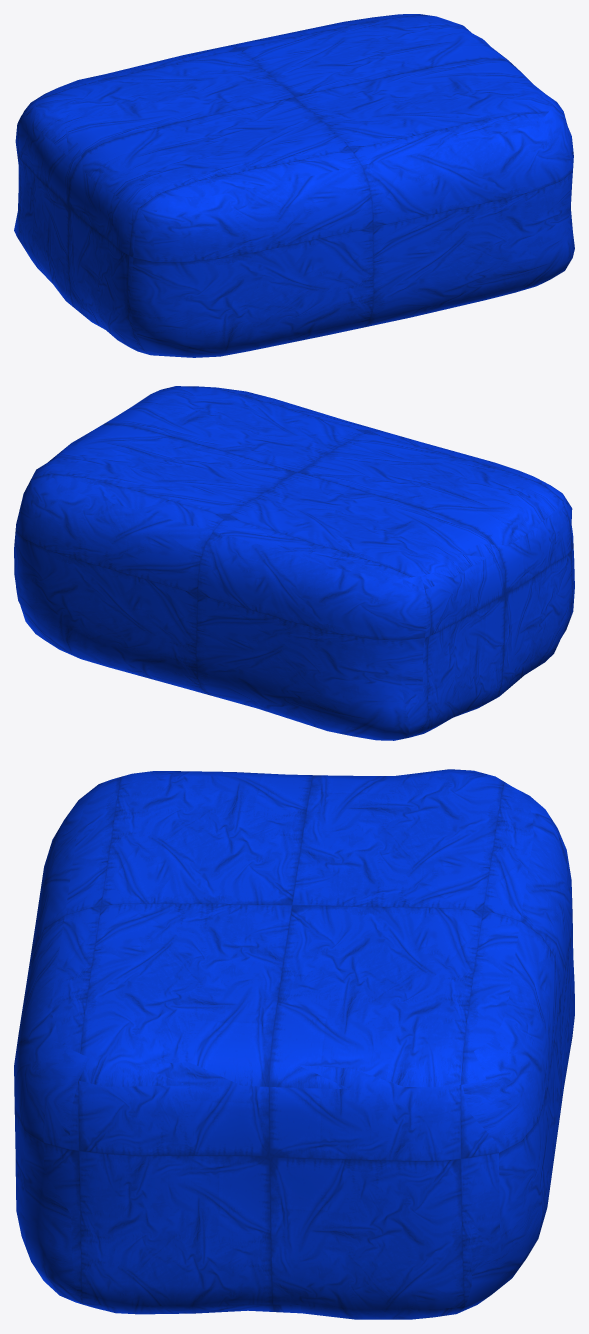
The model's file is ISS_INT_props_Bag_blue_large.FBX.
3 renders of one model, top to bottom at view 1: azimuth 30°, elevation 25°; view 2: azimuth 150°, elevation 25°; view 3: azimuth 270°, elevation 25°, orthographic. The views are drawn at different scales.
Parts seen in each view (by area): view 1: Columbus_int; view 2: Columbus_int; view 3: Columbus_int.
Part boxes in pixels (x1,y1,x2,y2): Columbus_int: (14, 14, 574, 357); Columbus_int: (14, 386, 574, 740); Columbus_int: (14, 769, 574, 1319).
Size of the model in its own units: 0.073 by 0.0286 by 0.0522.
